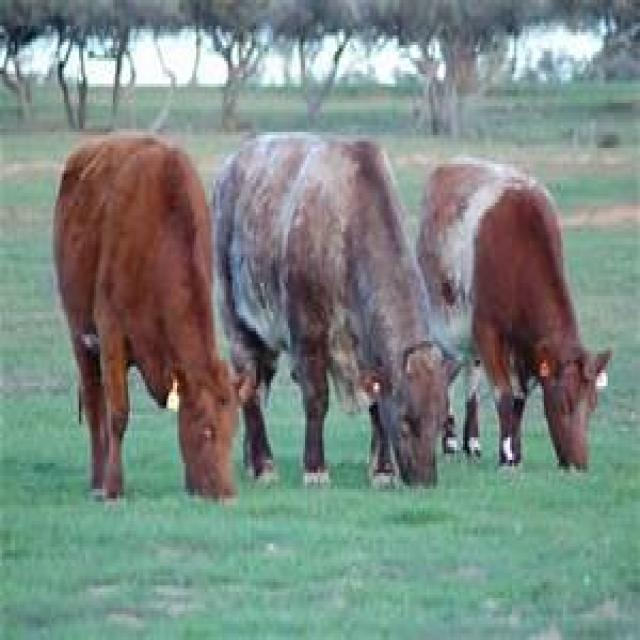cow: (209, 128, 459, 488), (52, 128, 245, 502), (414, 154, 612, 473)
